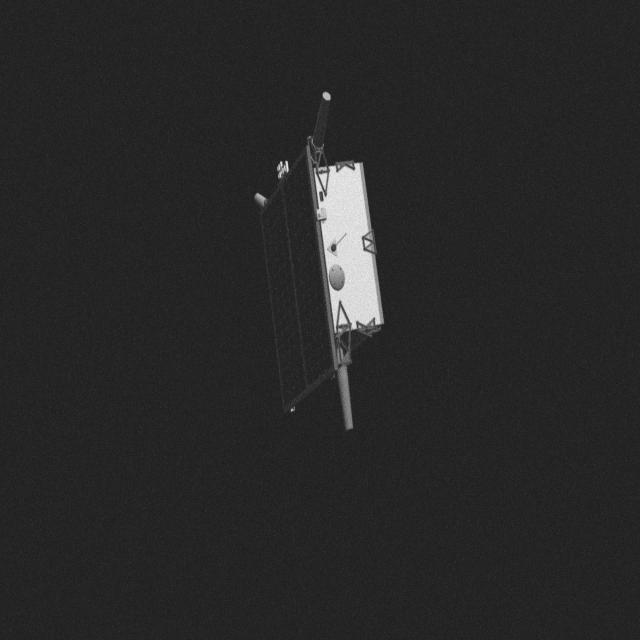satellite: (248, 80, 386, 452)
